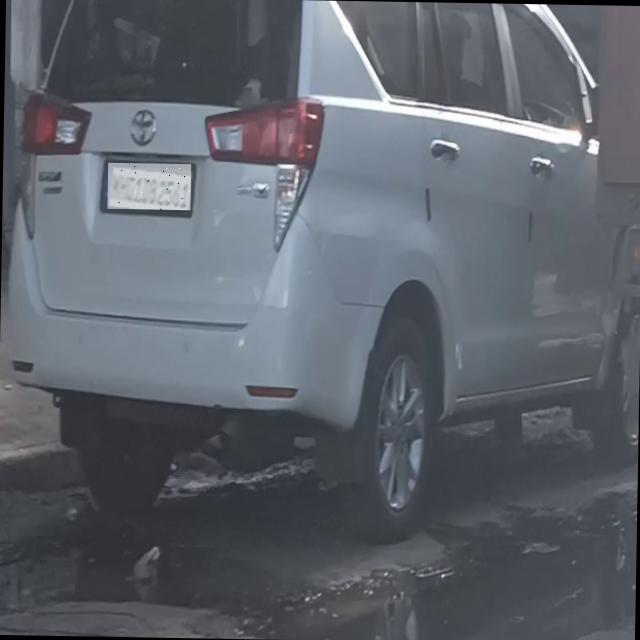Plate: (108, 164, 192, 211)
